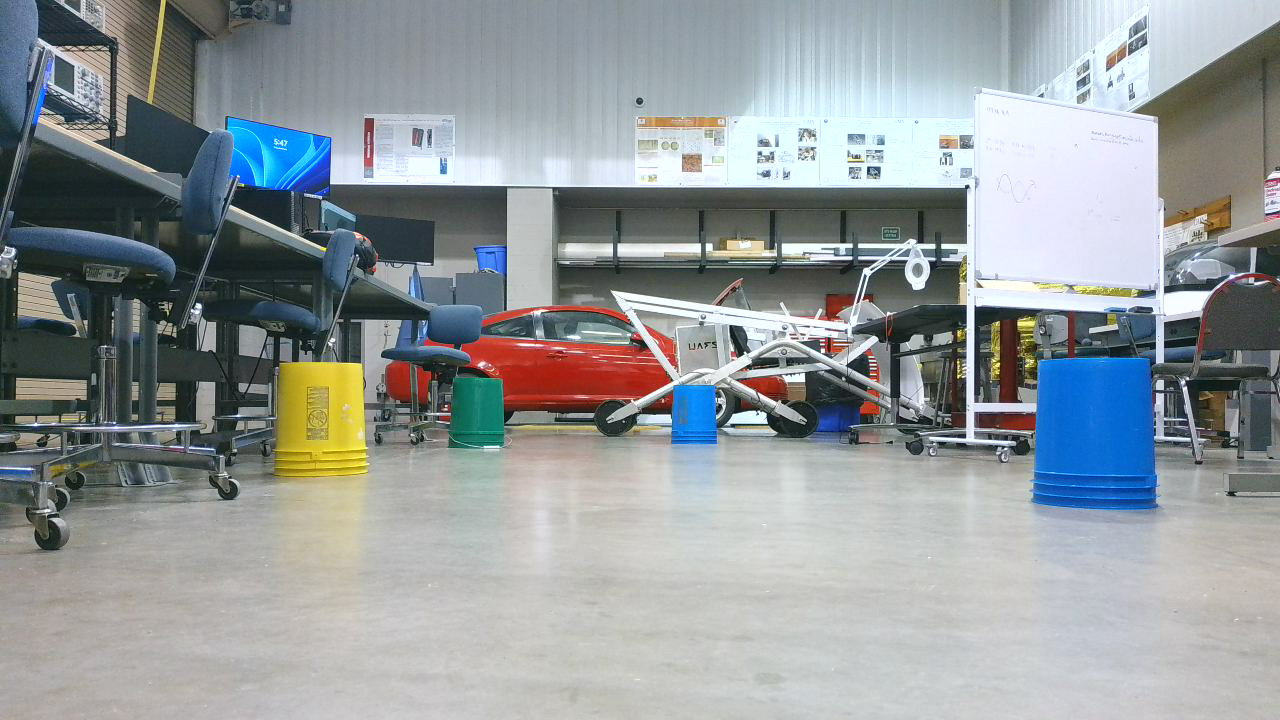blue_bucket: (1029, 357, 1175, 519), (672, 385, 727, 453)
green_bucket_barrier: (451, 379, 514, 459)
yellow_bucket: (273, 362, 380, 486)
